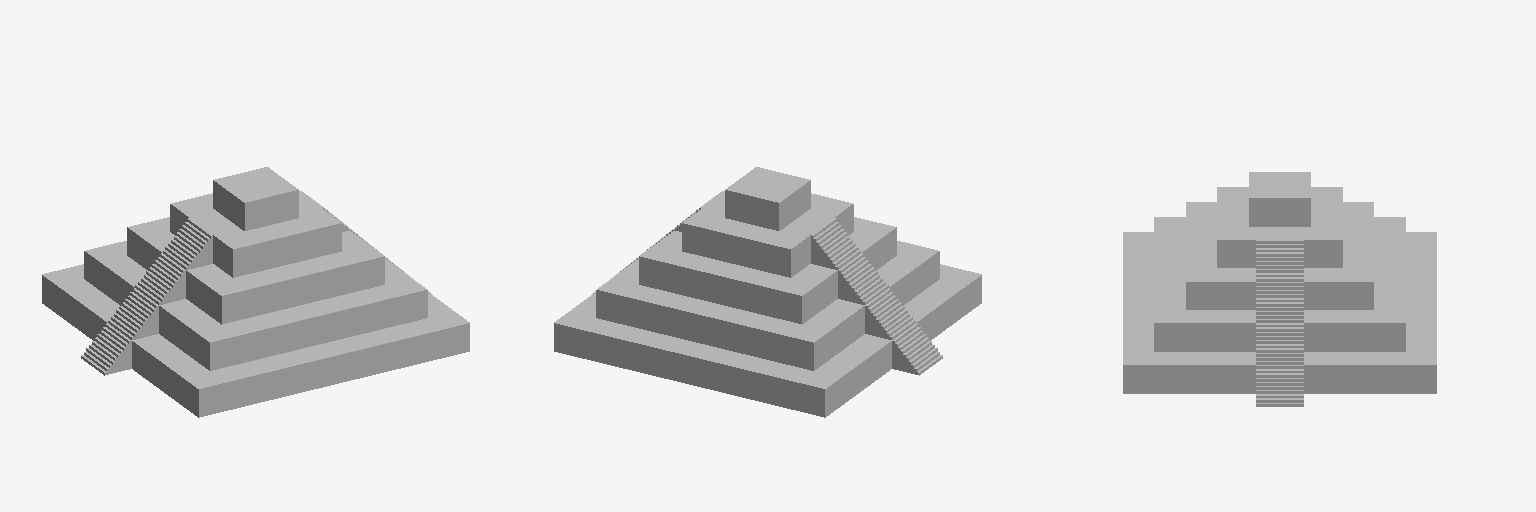
File: temple.obj
The picture shows the model from 3 angles: view 1: azimuth 30°, elevation 25°; view 2: azimuth 150°, elevation 25°; view 3: azimuth 270°, elevation 25°; orthographic projection.
Size of the model in its own units: 24 by 10 by 20.